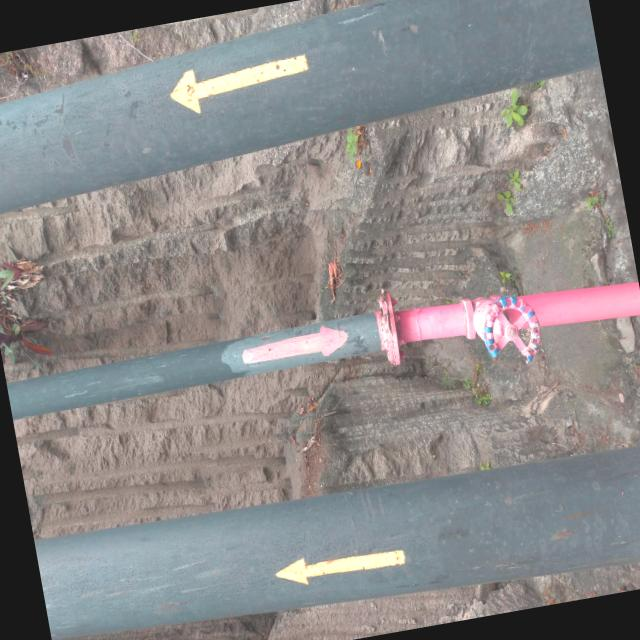gas: (0, 0, 607, 220), (34, 427, 640, 640), (4, 261, 640, 429)
